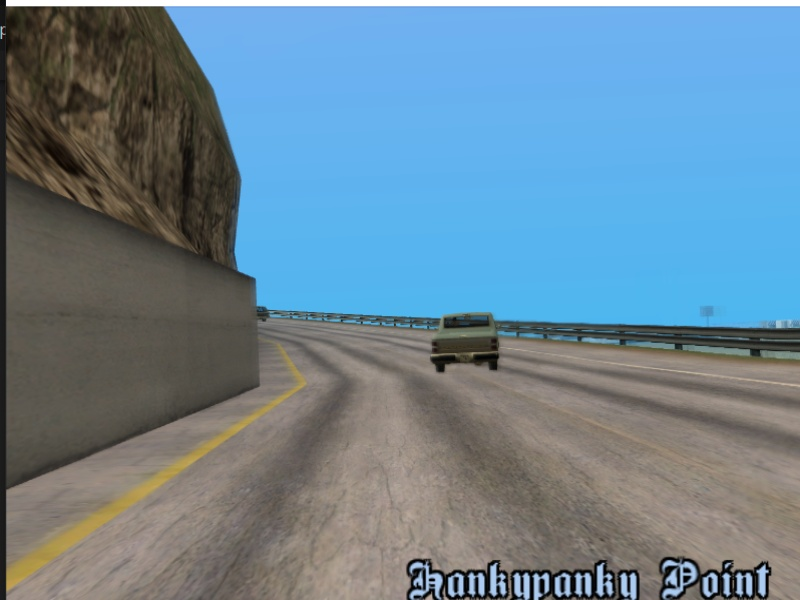vehicle: (420, 308, 509, 377)
